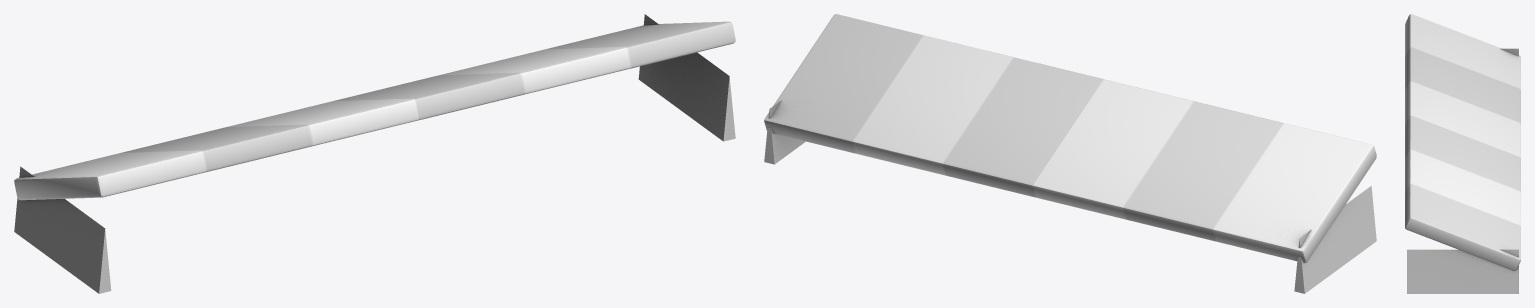
Rendered from toldo_kit.glb.
The picture shows the model from 3 angles, left to right: view 1: azimuth 30°, elevation 25°; view 2: azimuth 150°, elevation 25°; view 3: azimuth 270°, elevation 25°; orthographic projection. The views are drawn at different scales.
Parts seen in each view (by area): view 1: toldo_kit; view 2: toldo_kit; view 3: toldo_kit.
Part boxes in pixels (box(x1,y1,x2,y2)): toldo_kit: box(14, 14, 735, 293); toldo_kit: box(764, 14, 1376, 293); toldo_kit: box(1405, 14, 1520, 293).
Bounding box in the file's own units: 5.2 × 0.8972 × 1.24.
1 material, 1 textured.
